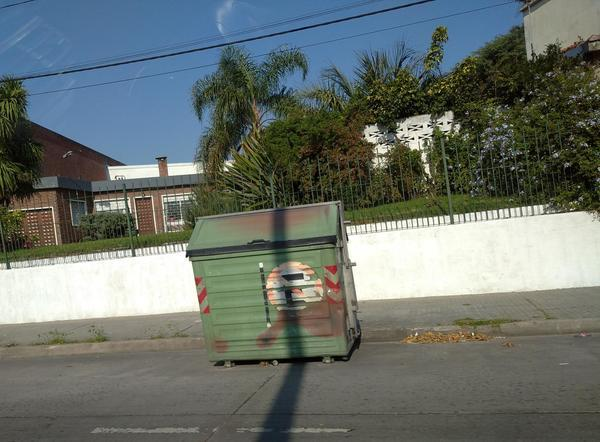Trash: (186, 201, 361, 365)
